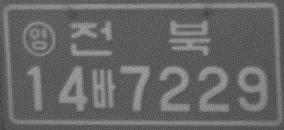1: (21, 64, 51, 112)
2: (197, 64, 230, 112), (158, 65, 190, 112)
4: (57, 65, 88, 111)
7: (119, 64, 151, 112)
9: (236, 65, 270, 112)
바: (90, 68, 117, 110)
영: (20, 20, 56, 58)
전북_D: (68, 19, 210, 58)
